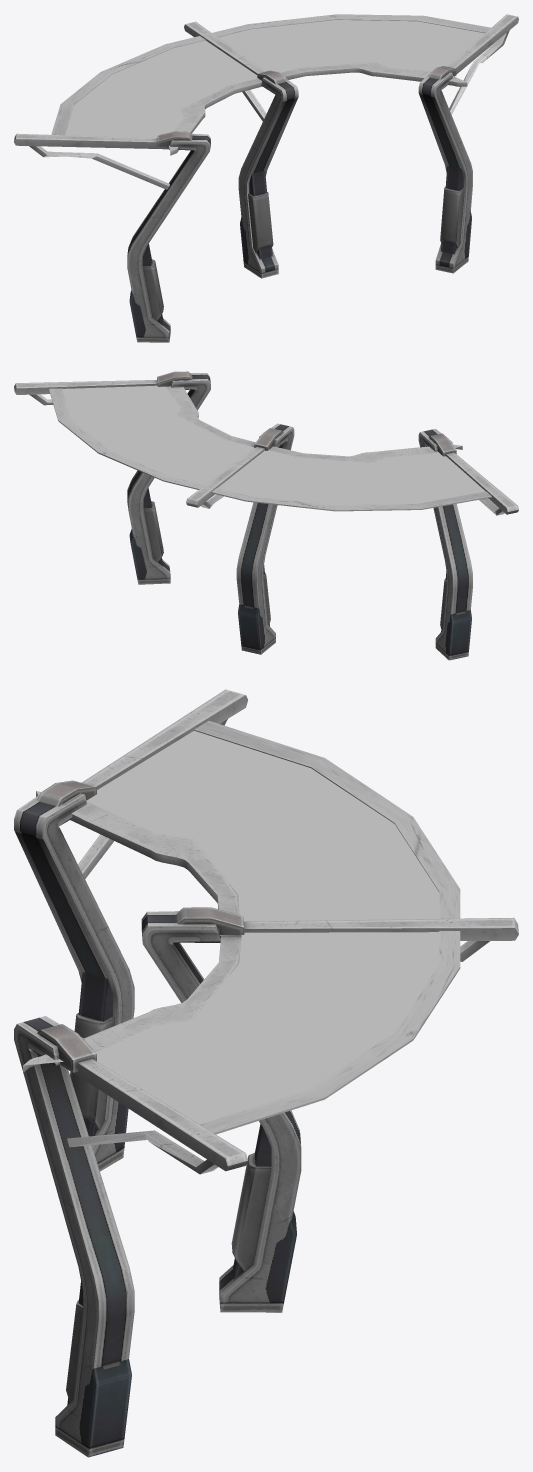
The model's file is mesh_1002_zc_building13.fbx.
The picture shows the model from 3 angles, top to bottom: view 1: azimuth 30°, elevation 25°; view 2: azimuth 150°, elevation 25°; view 3: azimuth 270°, elevation 25°; orthographic projection. The views are drawn at different scales.
Parts seen in each view (by area): view 1: mesh_1002_zc_building13b, mesh_1002_zc_building13a; view 2: mesh_1002_zc_building13b, mesh_1002_zc_building13a; view 3: mesh_1002_zc_building13b, mesh_1002_zc_building13a.
Part boxes in pixels (bbox=[...]): mesh_1002_zc_building13b: bbox=[14, 14, 518, 342]; mesh_1002_zc_building13a: bbox=[65, 20, 484, 138]; mesh_1002_zc_building13b: bbox=[14, 371, 518, 660]; mesh_1002_zc_building13a: bbox=[62, 385, 484, 505]; mesh_1002_zc_building13b: bbox=[14, 689, 518, 1457]; mesh_1002_zc_building13a: bbox=[86, 730, 439, 1123].
Size of the model in its own units: 1143 by 442 by 517.
